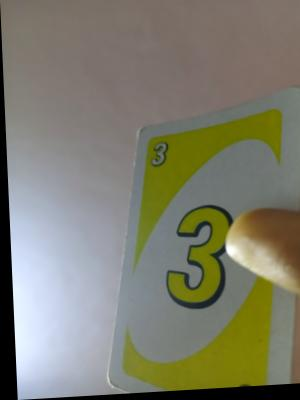num_3: (146, 138, 176, 177)
yellow: (145, 149, 269, 382)
